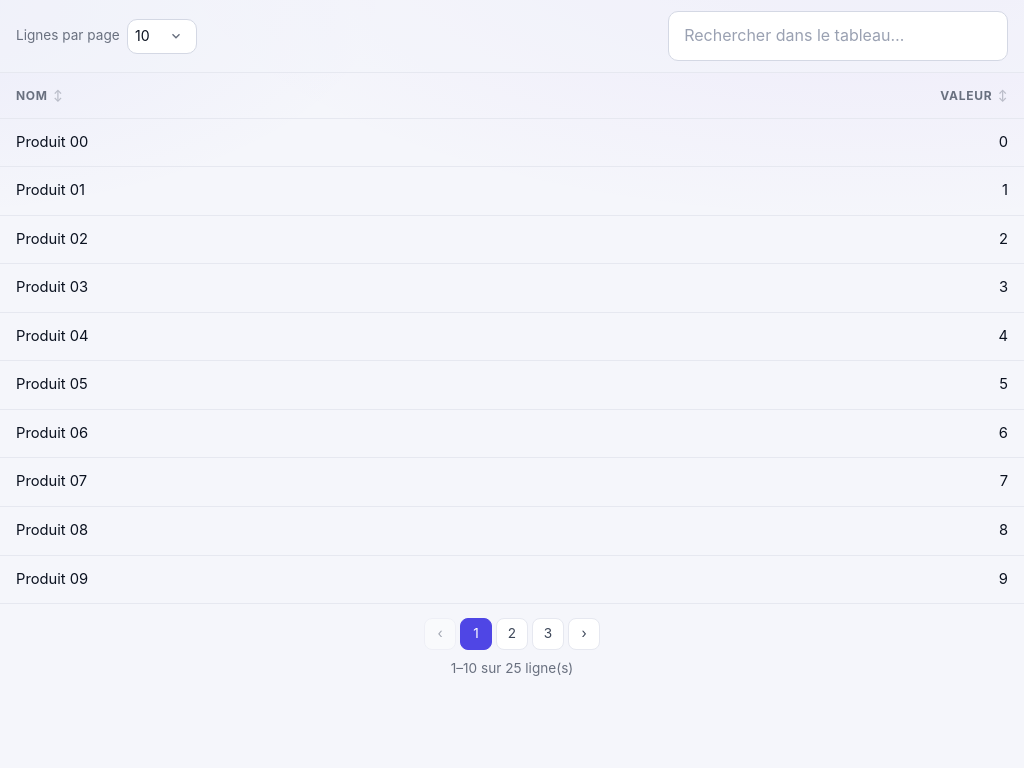
Test: DataTable › respecte la taille de page choisie et la mémorise
Step 1. Select "5" in the dropdown → [162, 36], box [127,19,197,54]
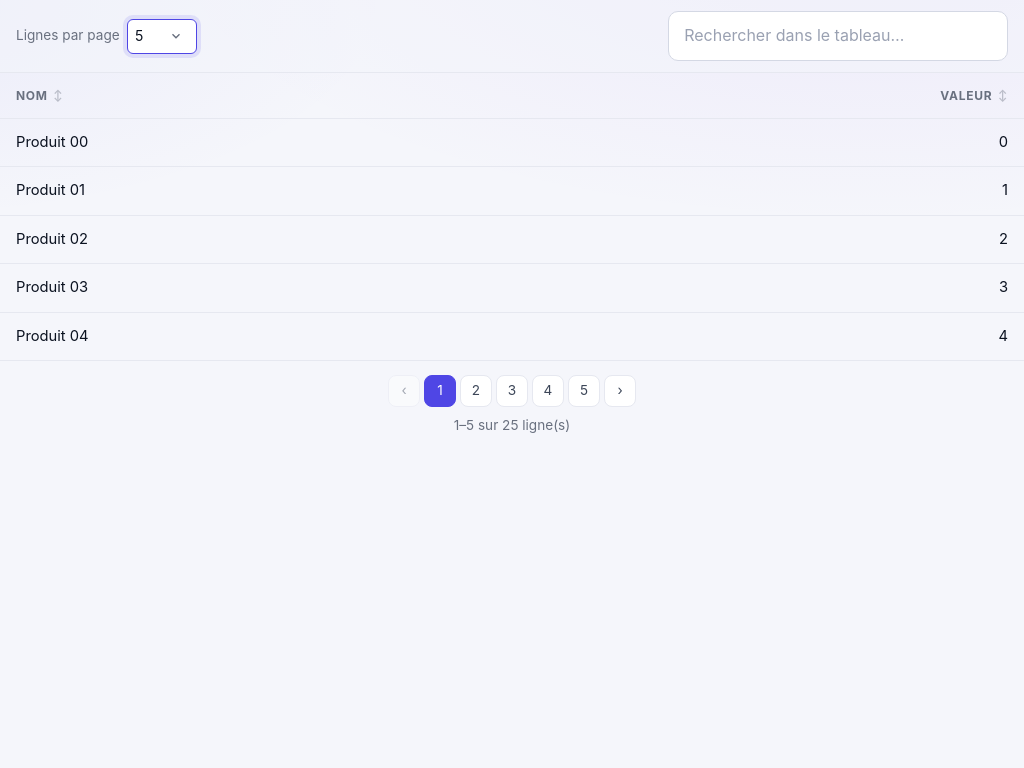
expect the number of rows is 6: met, box [0,73,1023,118]; [0,118,1023,167]; [0,167,1023,215]; [0,215,1023,264]; [0,264,1023,312]; [0,312,1023,360]
expect the text "1–5 sur 25 ligne(s)" is shown: met, box [454,415,570,437]
